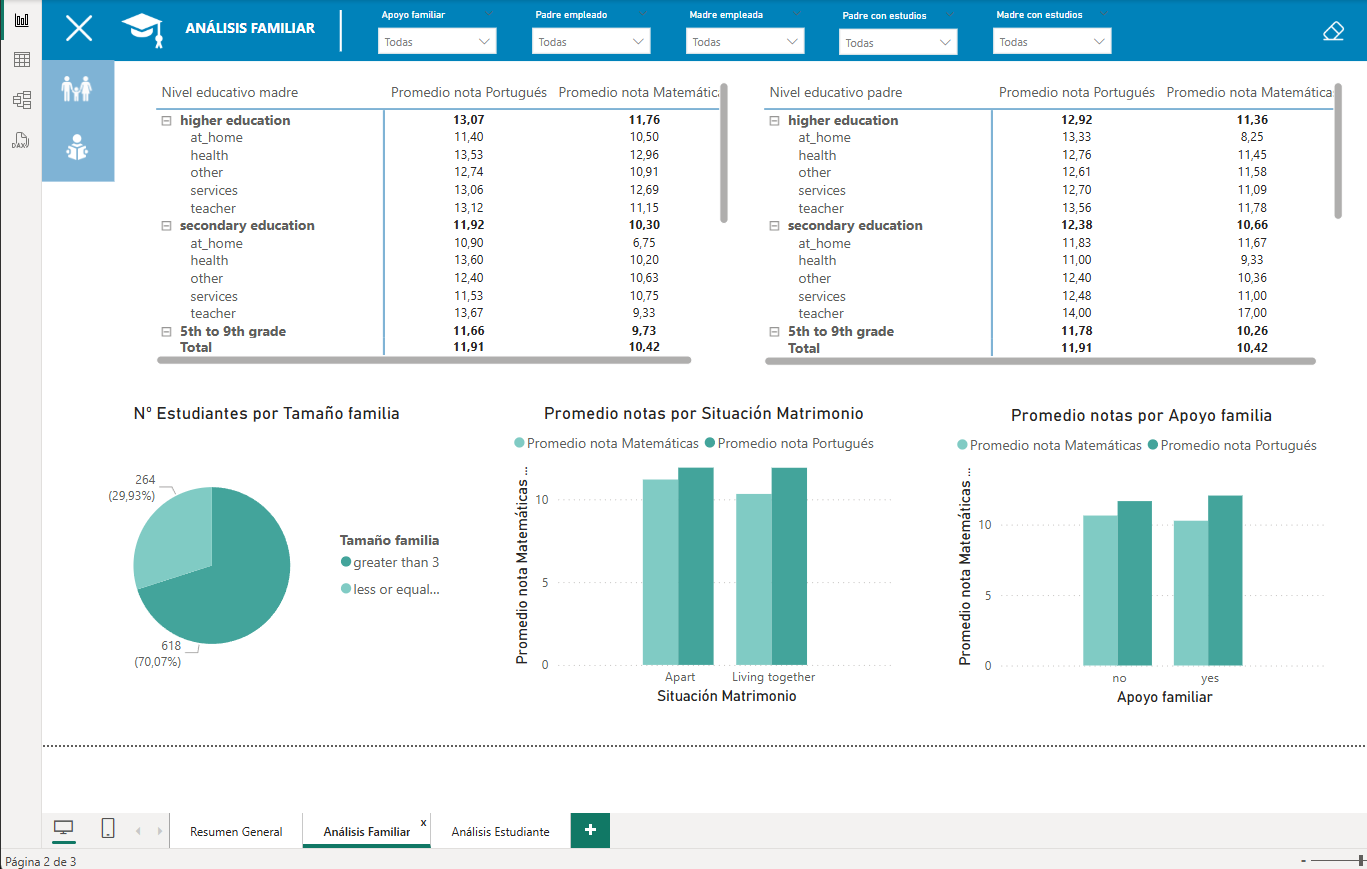

What the dashboard file says about the page in this screenshot:
{"tool":"powerbi","page":{"name":"Análisis Familiar","canvas":[1280,720],"ordinal":1},"visuals":[{"type":"shape","box":[0,0,1280.3,59],"z":0,"group":"g2"},{"type":"shape","title":"Desplegable Navegación","box":[0,58.8,70,117.5],"z":0,"group":"g3"},{"type":"group","id":"g1","title":"Área Datos","box":[36,74,1225.5,611.4],"z":0},{"type":"pieChart","fields":{"Category":["df_limpito_EDA.FamSize_Desc"],"Y":["Count(df_limpito_EDA.student_id)"]},"box":[36,388.2,362.9,297.1],"z":0,"group":"g1"},{"type":"group","id":"g2","title":"Área Cabecera","box":[0,0,1280.3,176.2],"z":1000},{"type":"group","id":"g3","title":"Desplegable Navegación","box":[0,10,70,166.2],"z":1000,"group":"g2"},{"type":"pivotTable","fields":{"Rows":["df_limpito_EDA.FEdu_Desc","df_limpito_EDA.Fjob"],"Values":["Avg(df_limpito_EDA.por_score)","Avg(df_limpito_EDA.math_score)"]},"box":[692.9,74.1,568.6,284.3],"z":1000,"group":"g1"},{"type":"image","title":"Icono Estudiante","box":[16,125,35,35],"z":1000,"group":"g3"},{"type":"image","title":"Icono Borrar","box":[1227.5,15,40,30],"z":1500,"group":"g2"},{"type":"slicer","title":"Filtro Madre Empleada","fields":{"Values":["df_limpito_EDA.Mjob"]},"box":[612.1,3.8,133.8,52.5],"z":2000,"group":"g2"},{"type":"shape","box":[260,10,57.5,40],"z":2000},{"type":"image","title":"Icono Familia","box":[13.8,66.2,40,40],"z":2000,"group":"g3"},{"type":"pivotTable","fields":{"Rows":["df_limpito_EDA.MEdu_Desc","df_limpito_EDA.Mjob"],"Values":["Avg(df_limpito_EDA.por_score)","Avg(df_limpito_EDA.math_score)"]},"box":[106,74,562.9,282.9],"z":2000,"group":"g1"},{"type":"slicer","title":"Filtro Madre Estudios","fields":{"Values":["df_limpito_EDA.Medu"]},"box":[909,3.8,133.8,52.5],"z":3000,"group":"g2"},{"type":"image","title":"Cerrar Navegación","box":[18,10,35,35],"z":3000,"group":"g3"},{"type":"clusteredColumnChart","title":"Promedio notas por Situación Matrimonio","fields":{"Y":["Avg(df_limpito_EDA.math_score)","Avg(df_limpito_EDA.por_score)"],"Category":["df_limpito_EDA.Pstatus_Desc"]},"box":[450,388.6,378.6,297.1],"z":3000},{"type":"slicer","title":"Filtro Padre Estudios","fields":{"Values":["df_limpito_EDA.Fedu"]},"box":[760.6,5,133.8,52.5],"z":4000,"group":"g2"},{"type":"clusteredColumnChart","title":"Promedio notas por Apoyo familia","fields":{"Y":["Avg(df_limpito_EDA.math_score)","Avg(df_limpito_EDA.por_score)"],"Category":["df_limpito_EDA.famsup"]},"box":[878.6,390,368.6,295.7],"z":4000},{"type":"slicer","title":"Filtro Pdre Empleado","fields":{"Values":["df_limpito_EDA.Fjob"]},"box":[463.7,4,133.8,52.5],"z":5000,"group":"g2"},{"type":"slicer","title":"Filtro Apoyo Familiar","fields":{"Values":["df_limpito_EDA.famsup"]},"box":[315.3,4,133.8,53],"z":6000,"group":"g2"},{"type":"image","title":"Icono Informe","box":[71.2,5,50,50],"z":7000,"group":"g2"},{"type":"textbox","title":"Título","box":[133.2,12.5,167.5,35],"z":9000,"group":"g2"}]}

Visuals, with their boxes on the page's 1280x720 design canvas (x1, y1, x2, y2). These are canvas units, not pixel positions in the 1367x869 screenshot, which may show the page scaled, cropped or inside an application window:
shape: x1=0 y1=0 x2=1280 y2=59
"Desplegable Navegación" shape: x1=0 y1=59 x2=70 y2=176
"Área Datos" group: x1=36 y1=74 x2=1262 y2=685
pieChart - df_limpito_EDA.FamSize_Desc x Count(df_limpito_EDA.student_id): x1=36 y1=388 x2=399 y2=685
"Área Cabecera" group: x1=0 y1=0 x2=1280 y2=176
"Desplegable Navegación" group: x1=0 y1=10 x2=70 y2=176
pivotTable - df_limpito_EDA.FEdu_Desc x df_limpito_EDA.Fjob: x1=693 y1=74 x2=1262 y2=358
"Icono Estudiante" image: x1=16 y1=125 x2=51 y2=160
"Icono Borrar" image: x1=1228 y1=15 x2=1268 y2=45
"Filtro Madre Empleada" slicer: x1=612 y1=4 x2=746 y2=56
shape: x1=260 y1=10 x2=318 y2=50
"Icono Familia" image: x1=14 y1=66 x2=54 y2=106
pivotTable - df_limpito_EDA.MEdu_Desc x df_limpito_EDA.Mjob: x1=106 y1=74 x2=669 y2=357
"Filtro Madre Estudios" slicer: x1=909 y1=4 x2=1043 y2=56
"Cerrar Navegación" image: x1=18 y1=10 x2=53 y2=45
"Promedio notas por Situación Matrimonio" clusteredColumnChart: x1=450 y1=389 x2=829 y2=686
"Filtro Padre Estudios" slicer: x1=761 y1=5 x2=894 y2=58
"Promedio notas por Apoyo familia" clusteredColumnChart: x1=879 y1=390 x2=1247 y2=686
"Filtro Pdre Empleado" slicer: x1=464 y1=4 x2=598 y2=56
"Filtro Apoyo Familiar" slicer: x1=315 y1=4 x2=449 y2=57
"Icono Informe" image: x1=71 y1=5 x2=121 y2=55
"Título" textbox: x1=133 y1=12 x2=301 y2=48
